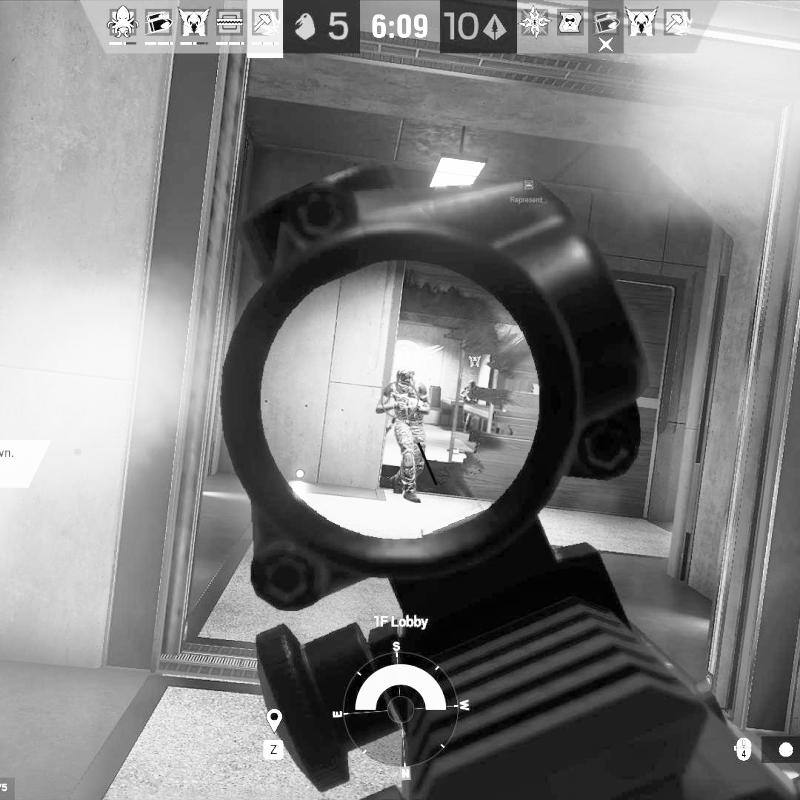Character: (373, 368, 437, 508), (461, 380, 482, 435)
Friend_label: (509, 178, 545, 204), (458, 354, 492, 380)
Head: (394, 368, 416, 392), (467, 380, 476, 390)
